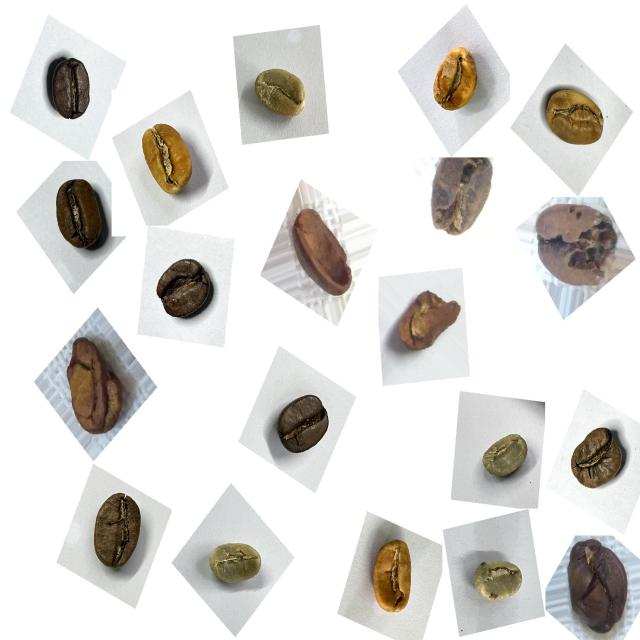bad: (50, 325, 137, 444), (530, 192, 625, 294), (555, 529, 634, 638), (288, 200, 364, 310), (387, 280, 465, 368), (426, 158, 502, 245)
dark: (265, 379, 339, 470), (37, 46, 104, 132)
green: (242, 54, 314, 136), (201, 527, 271, 598), (465, 546, 529, 613), (476, 422, 536, 493)
light: (357, 526, 431, 625), (533, 75, 615, 162), (128, 112, 202, 208), (418, 36, 490, 124)
medium: (77, 483, 156, 582), (43, 170, 119, 261), (562, 416, 636, 503), (146, 246, 220, 330)
